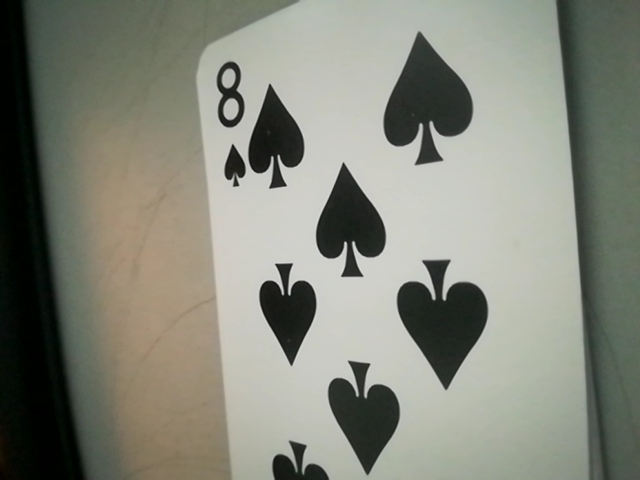ht 8: (200, 50, 270, 192)
